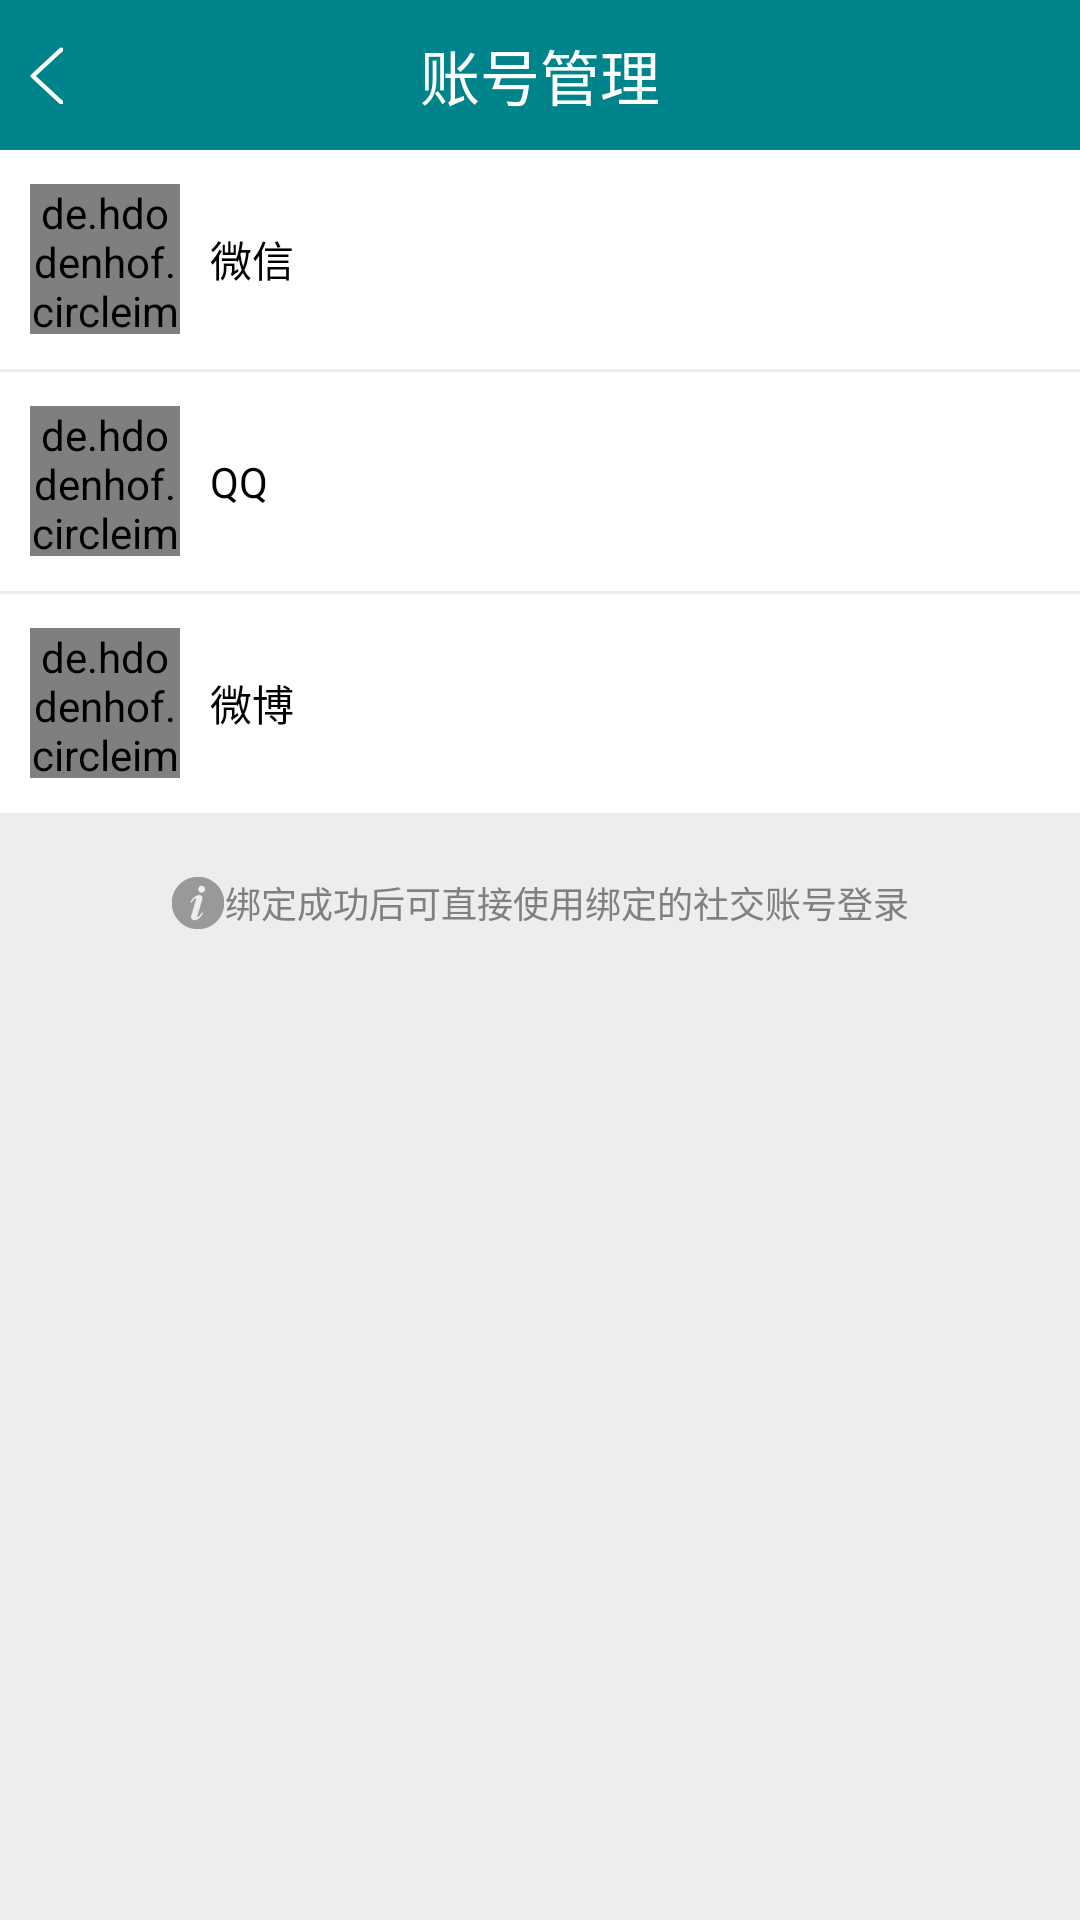

Locate icon controls on the screen. Image size 1080px×1920px, boxes as (x1, y1, x2, y2).
tishi: (172, 877, 224, 929)
